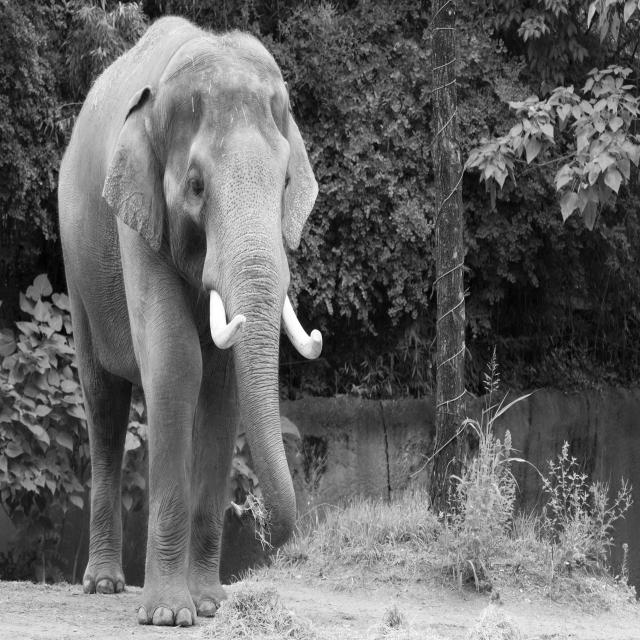Elephant: (41, 34, 342, 610)
